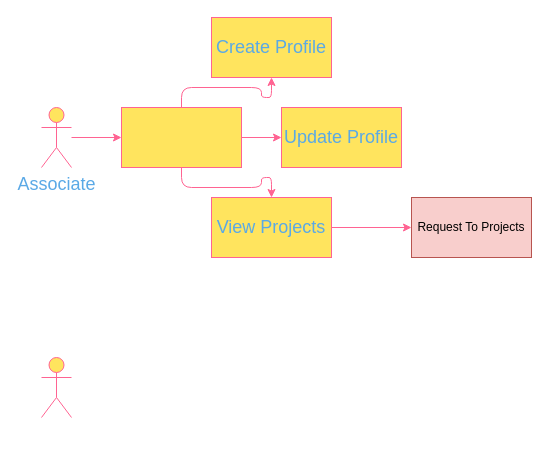
Image size: 549x464. Some labels were removed from this diagram. Each missing label, with the box of its shape:
Actor: (40, 356, 72, 418)
Login to the system: (120, 106, 242, 168)
